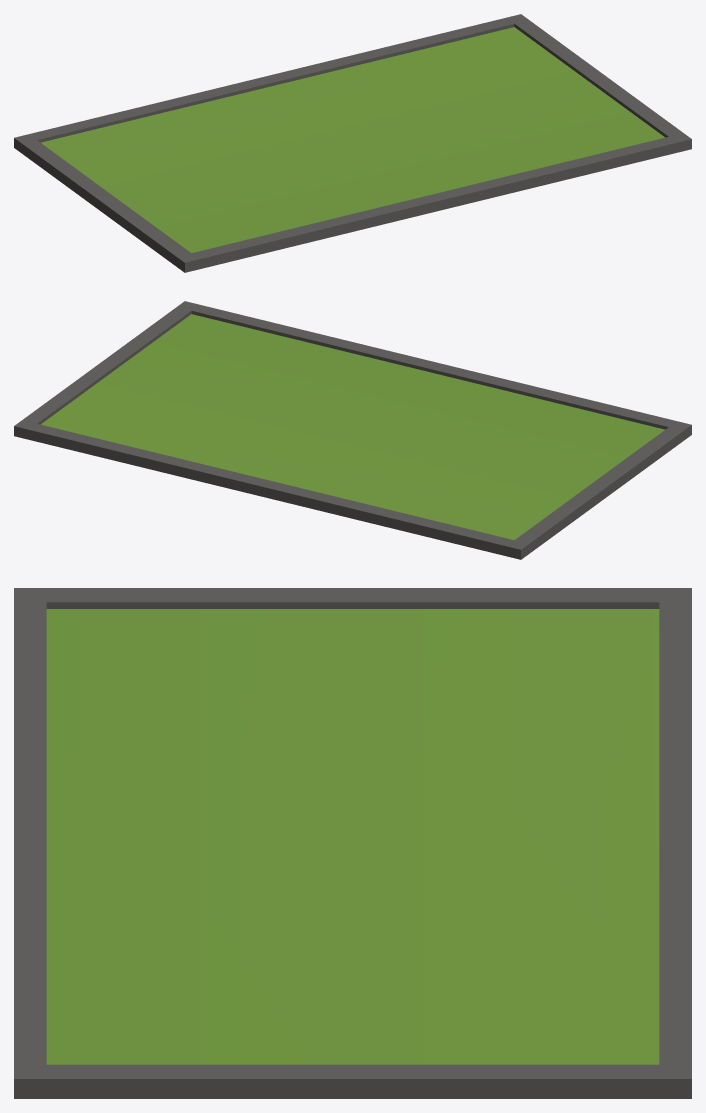
File: SM_Floor_Garden_03.fbx
3 views of the same model, one above another, from view 1: azimuth 30°, elevation 25°; view 2: azimuth 150°, elevation 25°; view 3: azimuth 270°, elevation 25° (orthographic). The views are drawn at different scales.
Parts seen in each view (by area): view 1: SM_Floor_Garden_03; view 2: SM_Floor_Garden_03; view 3: SM_Floor_Garden_03.
Part boxes in pixels (x1=…): SM_Floor_Garden_03: x1=14, y1=14, x2=691, y2=272; SM_Floor_Garden_03: x1=14, y1=301, x2=691, y2=559; SM_Floor_Garden_03: x1=14, y1=588, x2=691, y2=1098.
Bounding box in the file's own units: 3.96 × 0.075 × 2.31.
